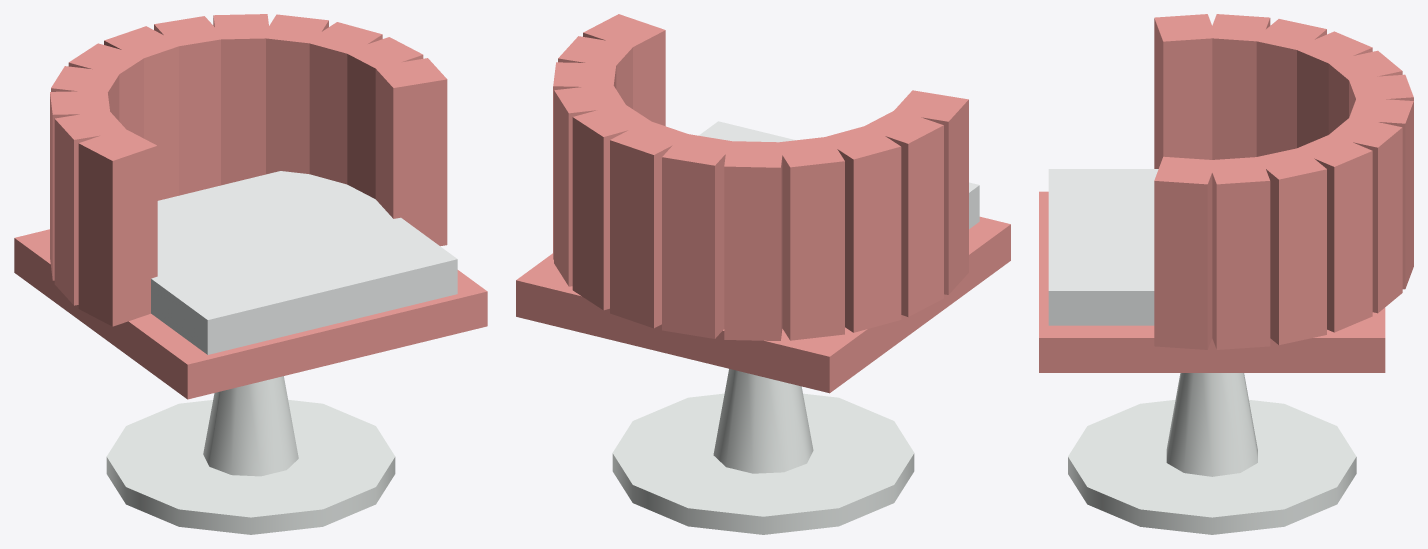
File: armchairBucket.glb
3 views of the same model, side by side, from view 1: azimuth 30°, elevation 25°; view 2: azimuth 150°, elevation 25°; view 3: azimuth 270°, elevation 25° (orthographic). The views are drawn at different scales.
Visible parts, largest first — view 1: armchairBucket; view 2: armchairBucket; view 3: armchairBucket.
Part boxes in pixels (x1=…): armchairBucket: x1=14, y1=14, x2=487, y2=534; armchairBucket: x1=516, y1=14, x2=1010, y2=534; armchairBucket: x1=1039, y1=14, x2=1413, y2=534.
Bounding box in the file's own units: 0.4193 × 0.43 × 0.3896.
